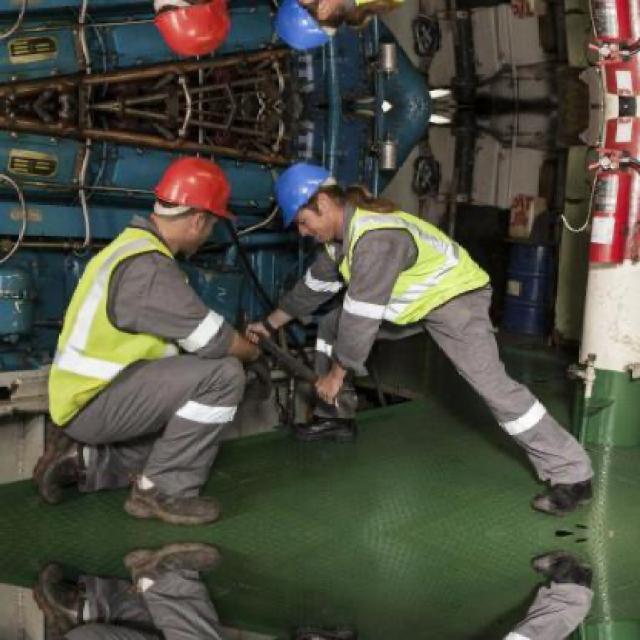helmet: (142, 153, 238, 248), (268, 156, 357, 240), (142, 0, 240, 62), (266, 0, 357, 59)
